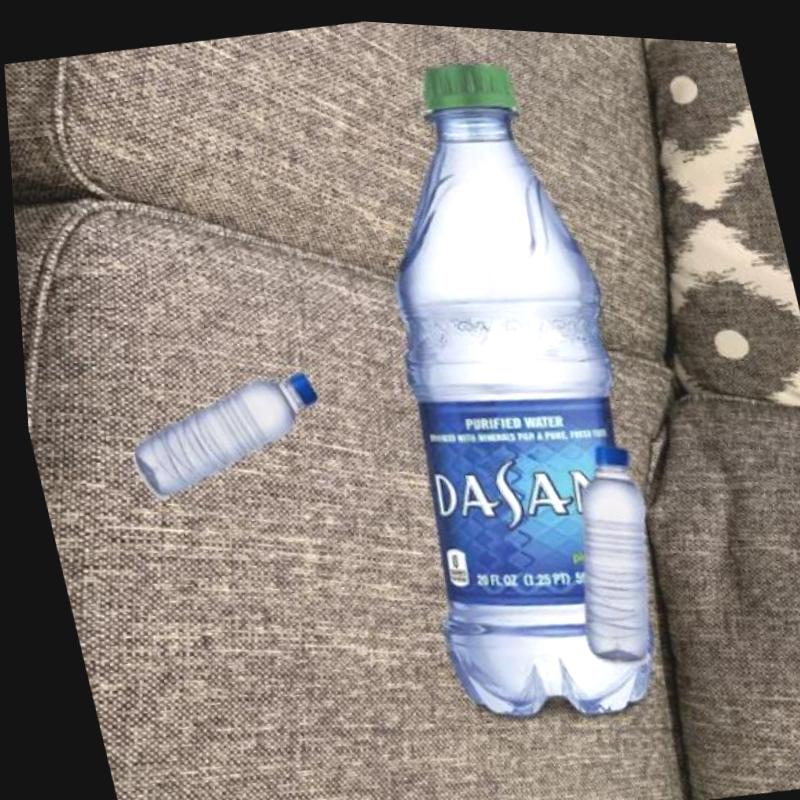botella: (305, 33, 692, 738), (533, 429, 680, 669), (110, 358, 332, 509)
